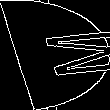M_W: (6, 28, 104, 82)
